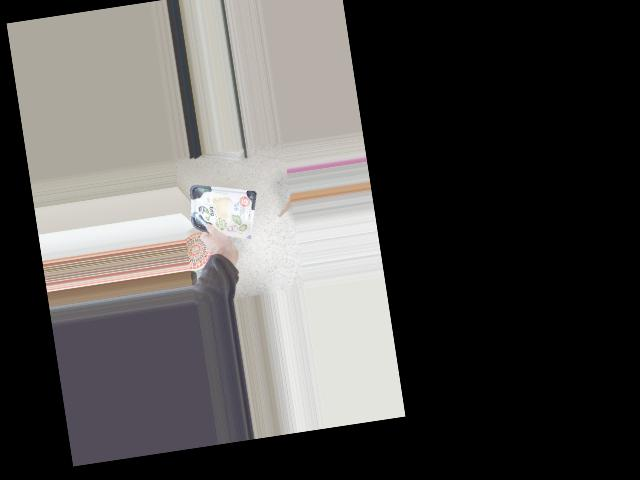cheese: (184, 176, 259, 247)
